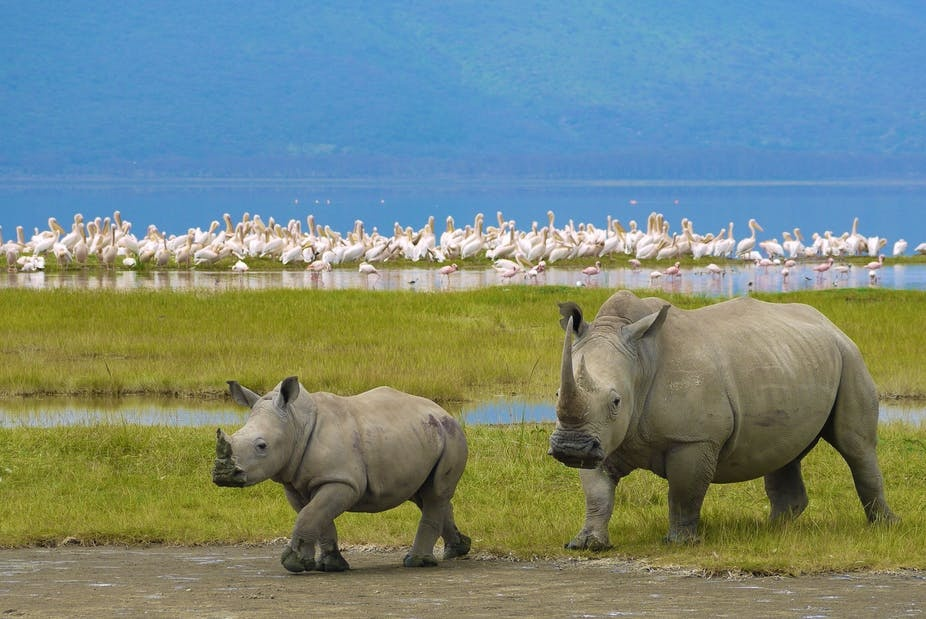rhino: (551, 299, 892, 553), (215, 371, 476, 571)
